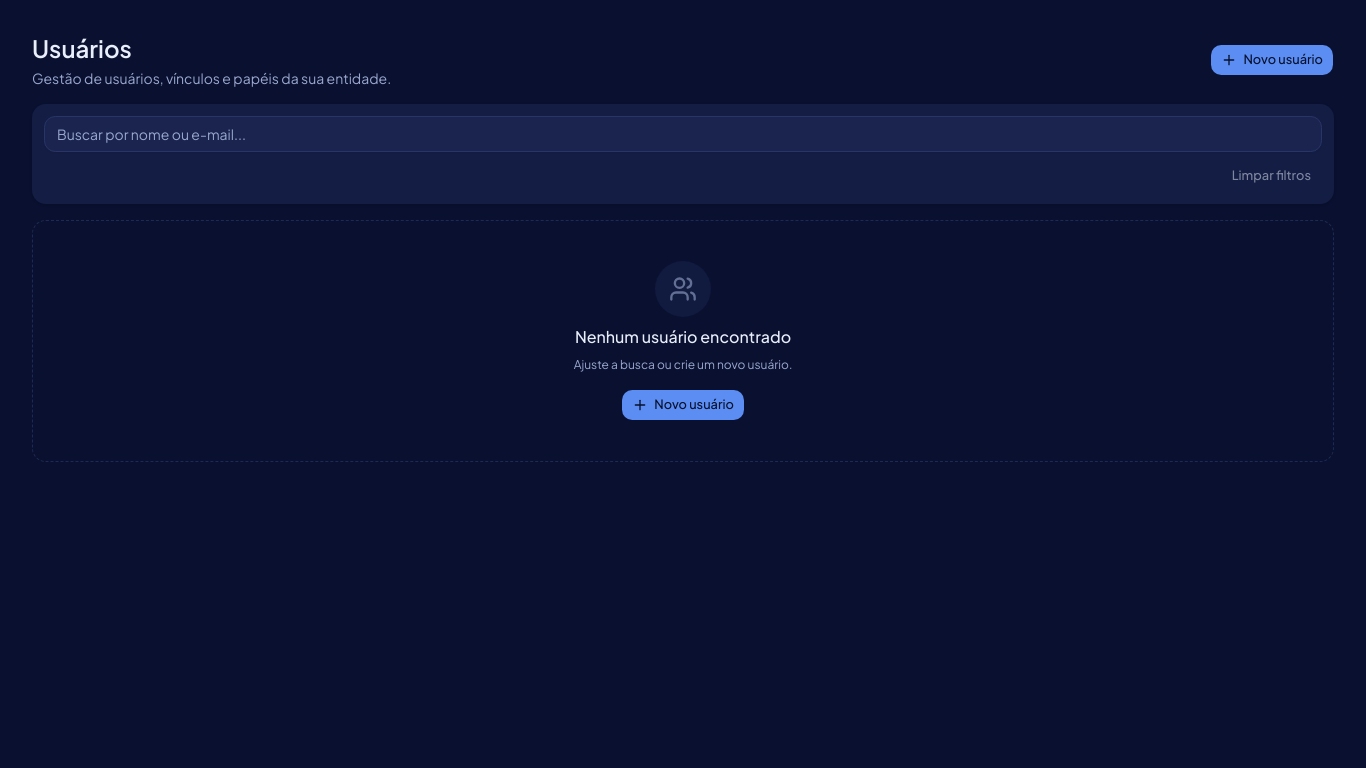
it: UsuariosPage — seletor de papel x papéis restritos › admin_entidade (sem admin.gerenciar): o default do seletor pula o papel restrito
The width and height of the screenshot is (1366, 768).
Check: the text "Nenhum usuário encontrado" is shown, box [575, 325, 791, 349]
Click the 1st button "Novo usuário": (1272, 60) [1210, 44, 1334, 76]
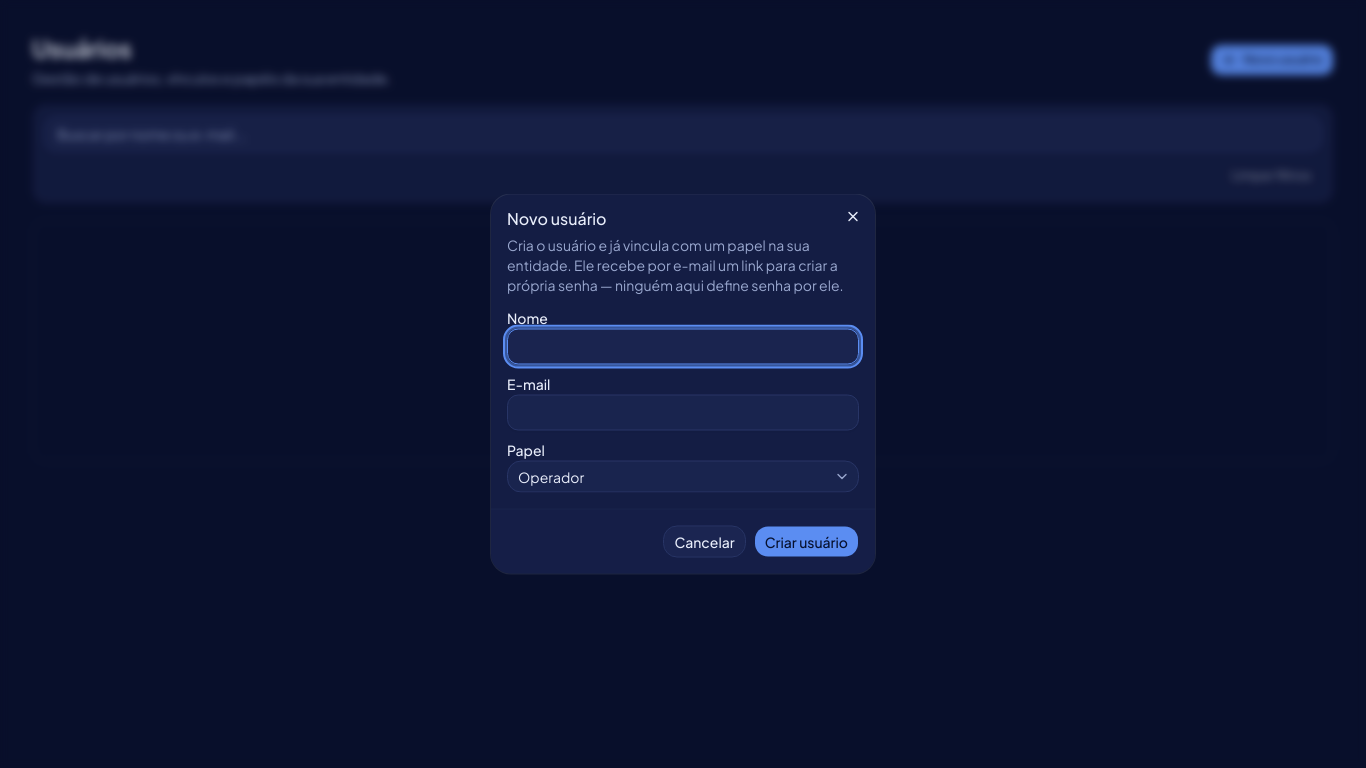
Check: the text "Operador" is shown, box [518, 468, 584, 486]
